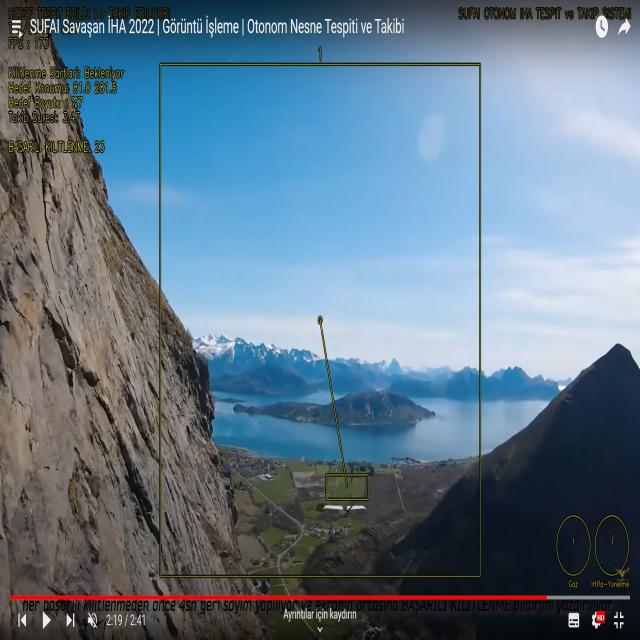iha: (324, 502, 368, 518)
